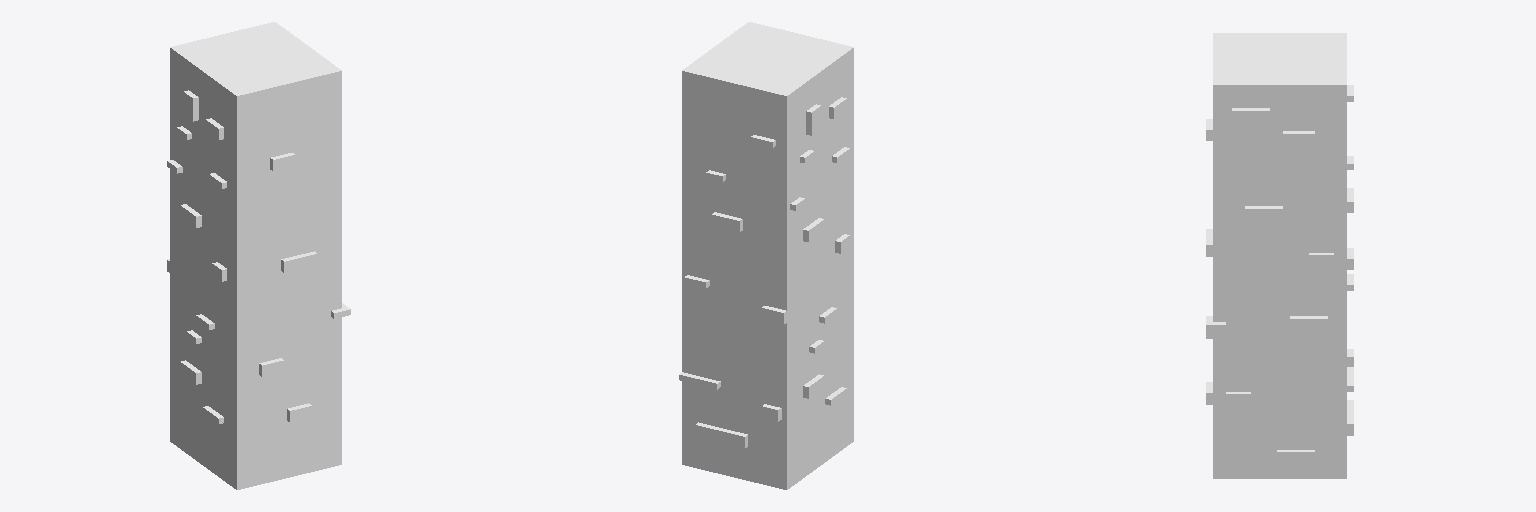
File: cactus_Big.obj
3 renders of one model, left to right at view 1: azimuth 30°, elevation 25°; view 2: azimuth 150°, elevation 25°; view 3: azimuth 270°, elevation 25°, orthographic.
Parts seen in each view (by area): view 1: object 1; view 2: object 1; view 3: object 1.
Part boxes in pixels (x1,y1,x2,y2): object 1: (167,22,350,489); object 1: (679,22,853,489); object 1: (1206,33,1353,478).
Bounding box in the file's own units: 2.1 × 6.8 × 2.3.